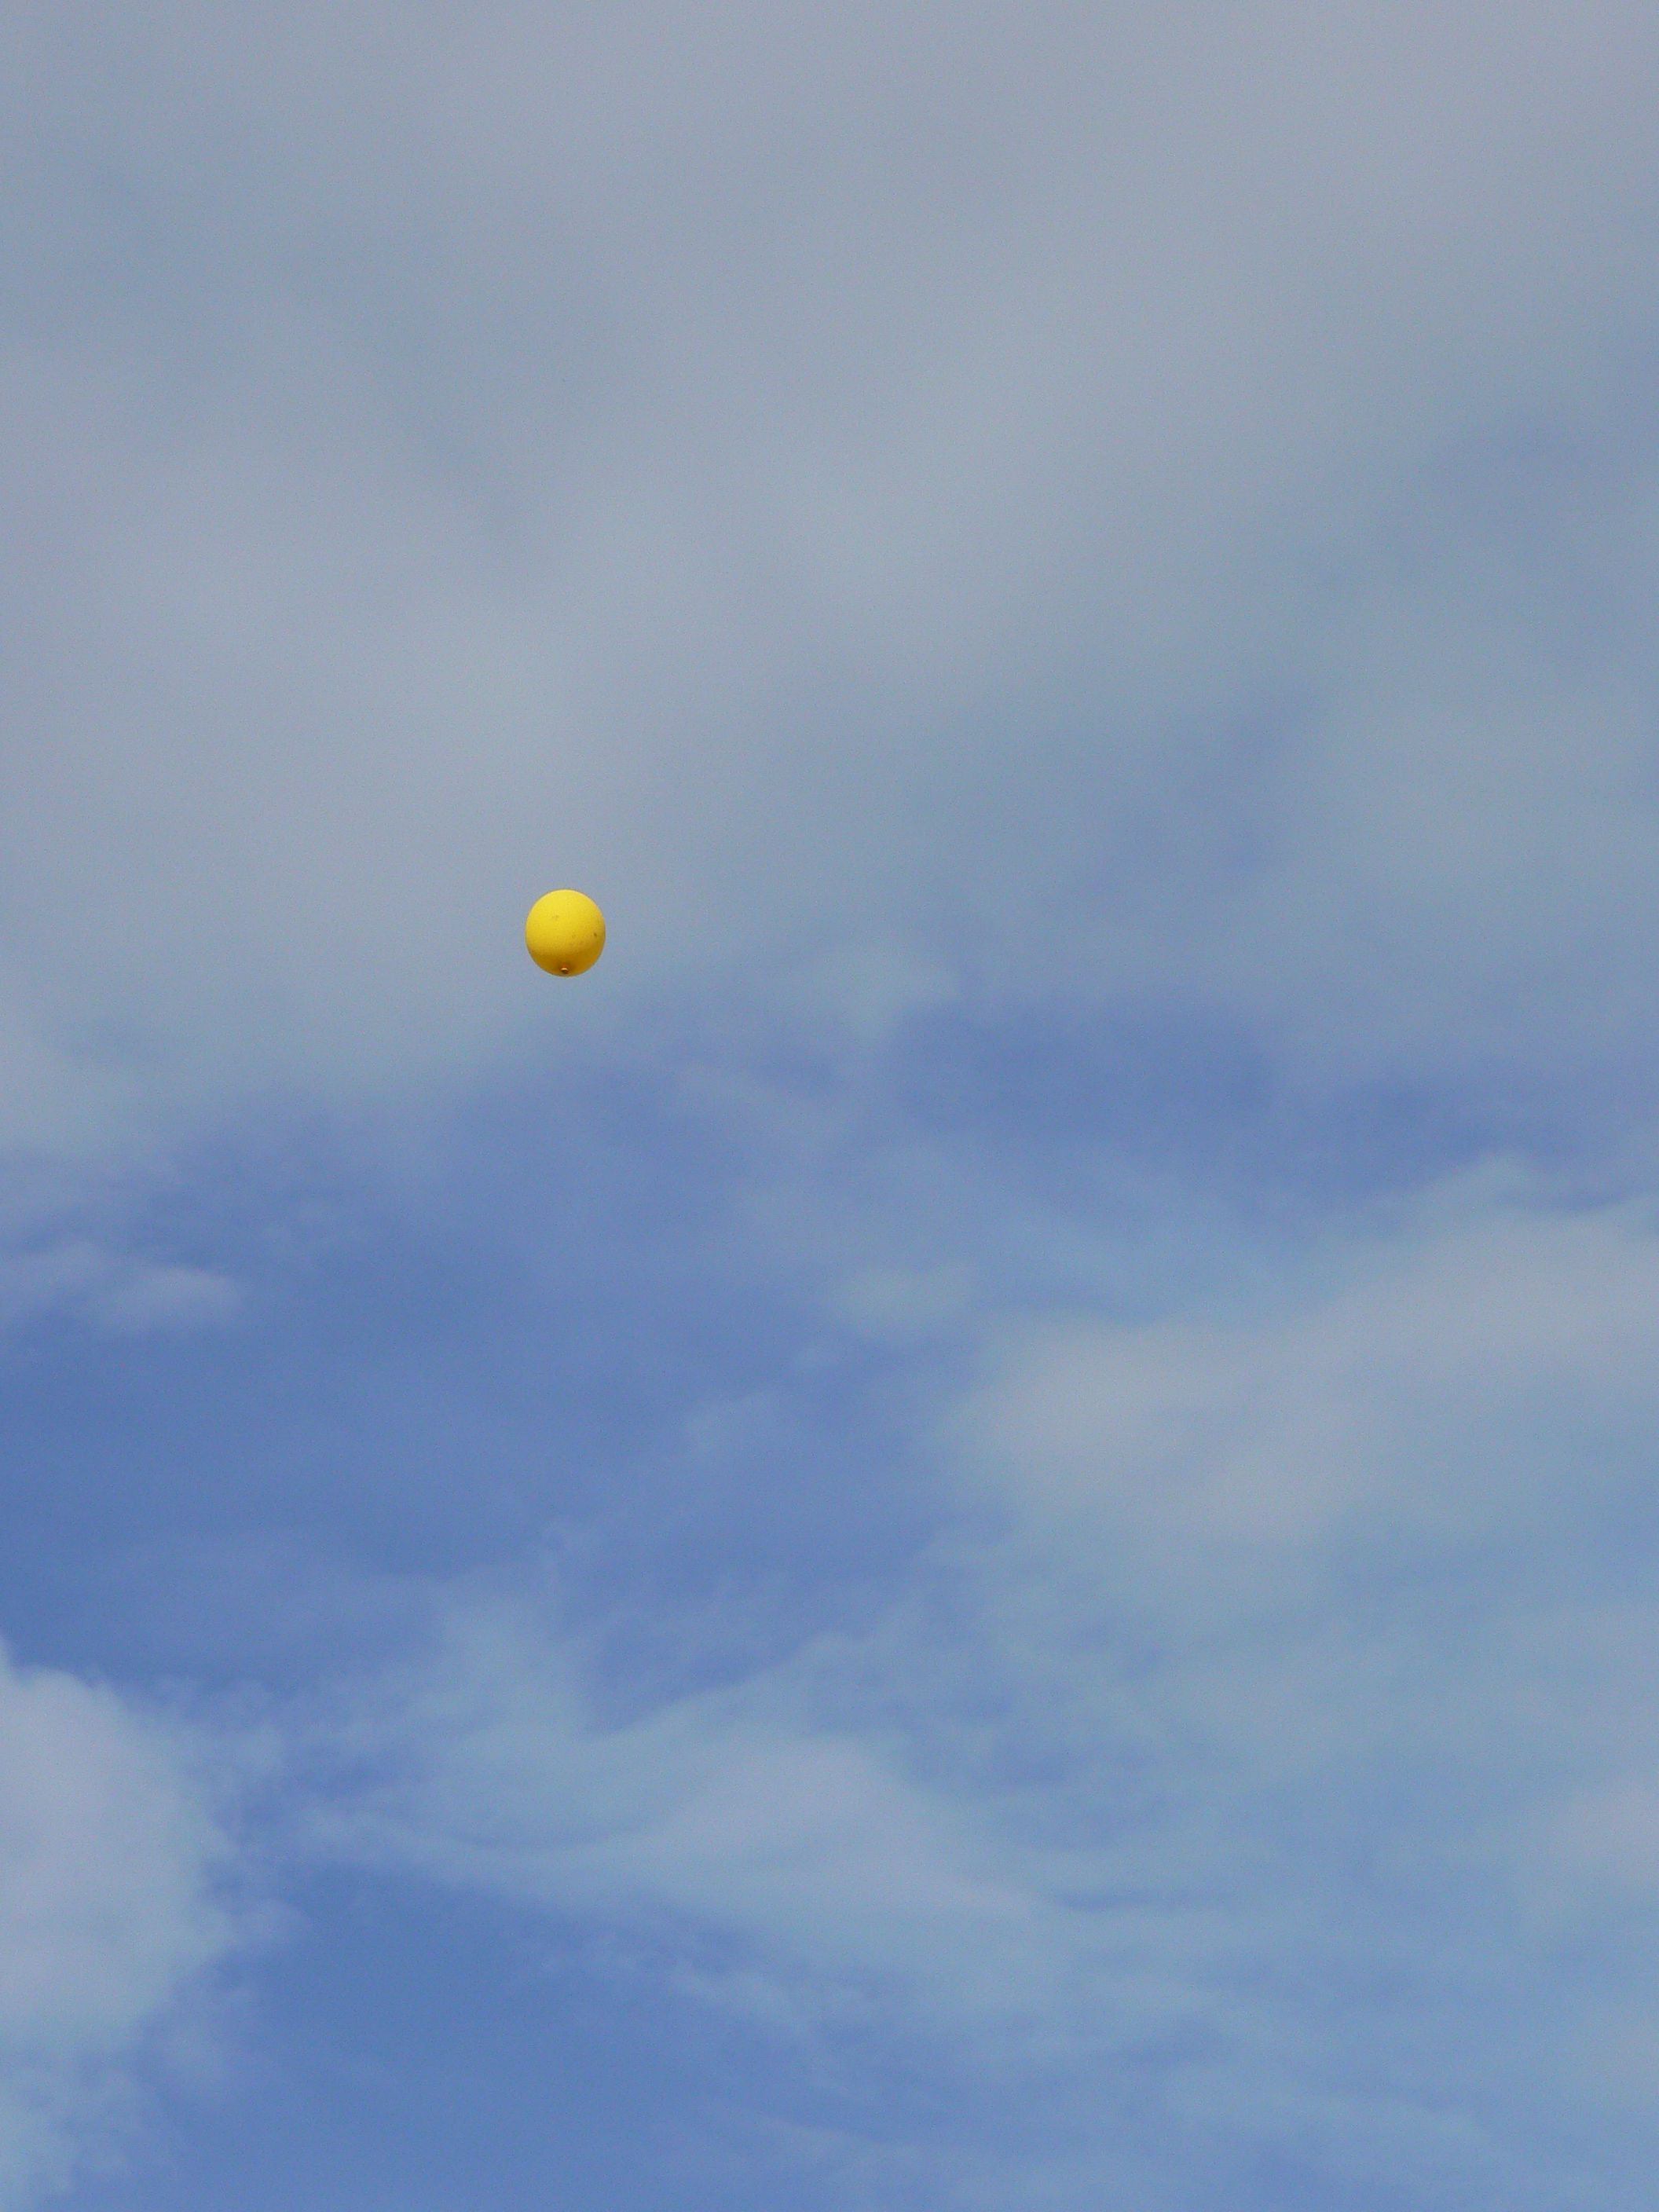Balloon: (530, 887, 605, 977)
